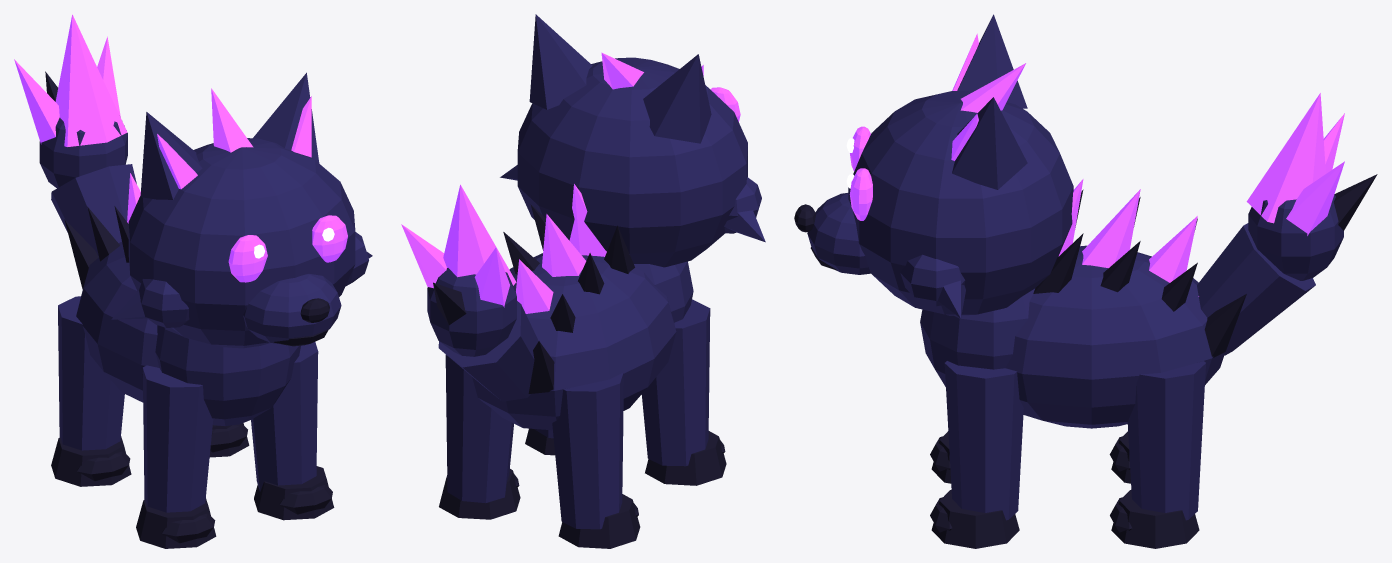
The model's file is shadow-wolf-pet.glb.
The picture shows the model from 3 angles, left to right: view 1: azimuth 30°, elevation 25°; view 2: azimuth 150°, elevation 25°; view 3: azimuth 270°, elevation 25°; orthographic projection. The views are drawn at different scales.
Visible parts, largest first — view 1: ShadowWolf; view 2: ShadowWolf; view 3: ShadowWolf.
Part boxes in pixels (box(x1,y1,x2,y2)): ShadowWolf: box(14, 14, 372, 548); ShadowWolf: box(401, 14, 765, 548); ShadowWolf: box(794, 14, 1377, 548).
Size of the model in its own units: 1.96 by 3 by 3.57.
